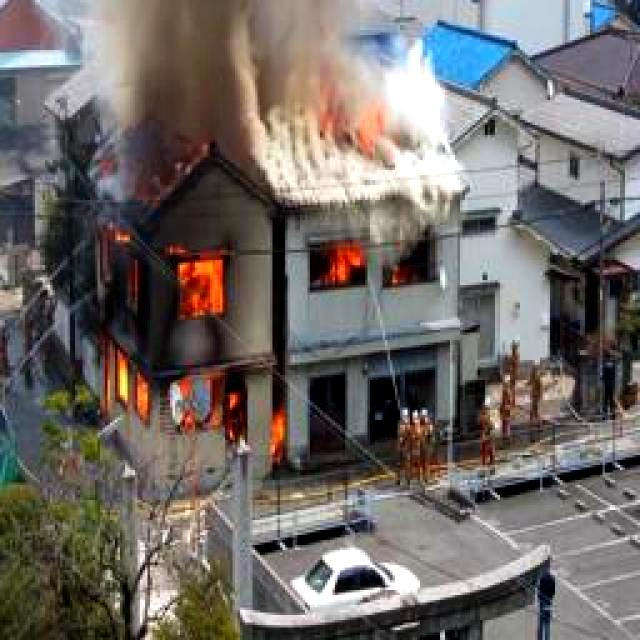fire: (79, 200, 291, 462), (301, 66, 415, 158), (300, 228, 444, 292)
